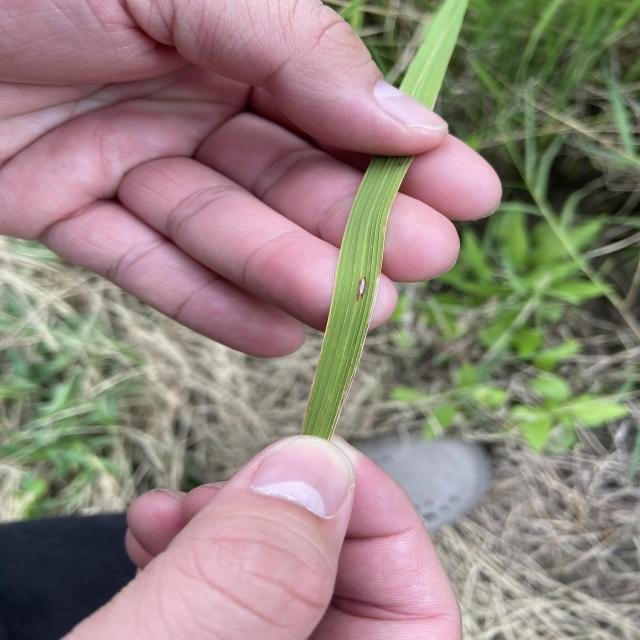Dao on: (356, 277, 367, 301)
